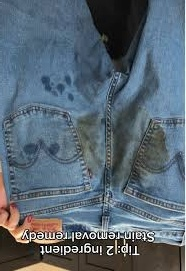earth: (81, 115, 154, 178), (149, 127, 169, 161)
